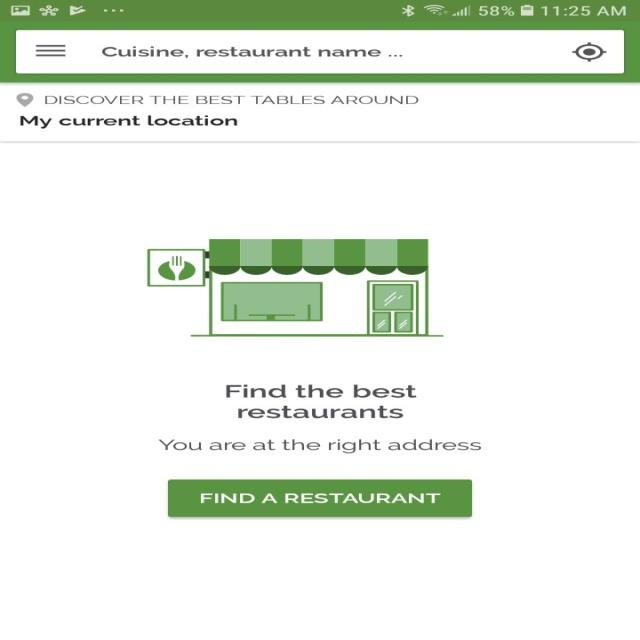EditText: (16, 30, 623, 74)
Icon: (571, 42, 606, 62), (36, 44, 66, 57), (15, 93, 34, 107)
Image: (146, 238, 444, 337)
Text: (225, 384, 416, 419), (157, 438, 481, 454), (101, 46, 402, 58), (19, 115, 238, 129), (44, 96, 418, 104)
TextButton: (168, 479, 472, 517)
